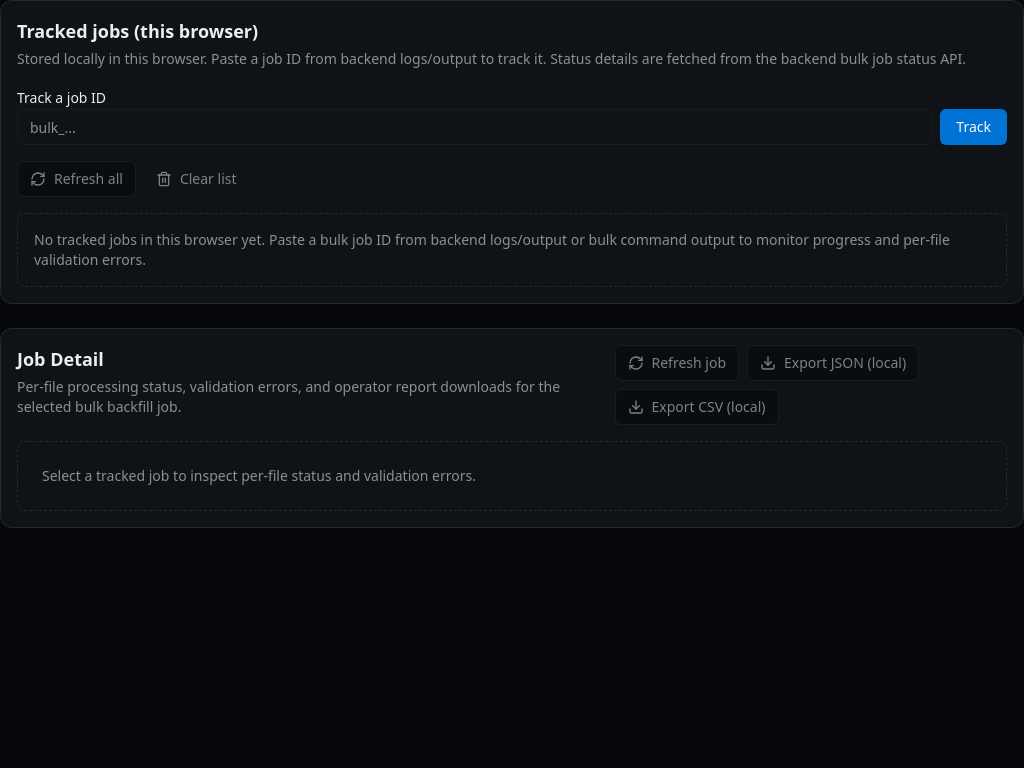
Scenario: AdminBulkBackfillMonitor › treats abort errors as silent refresh cancellations
The image size is (1024, 768).
In the field labelled "Track a job ID": coordinates (475, 127) [17,109,932,145], type "bulk_abort"
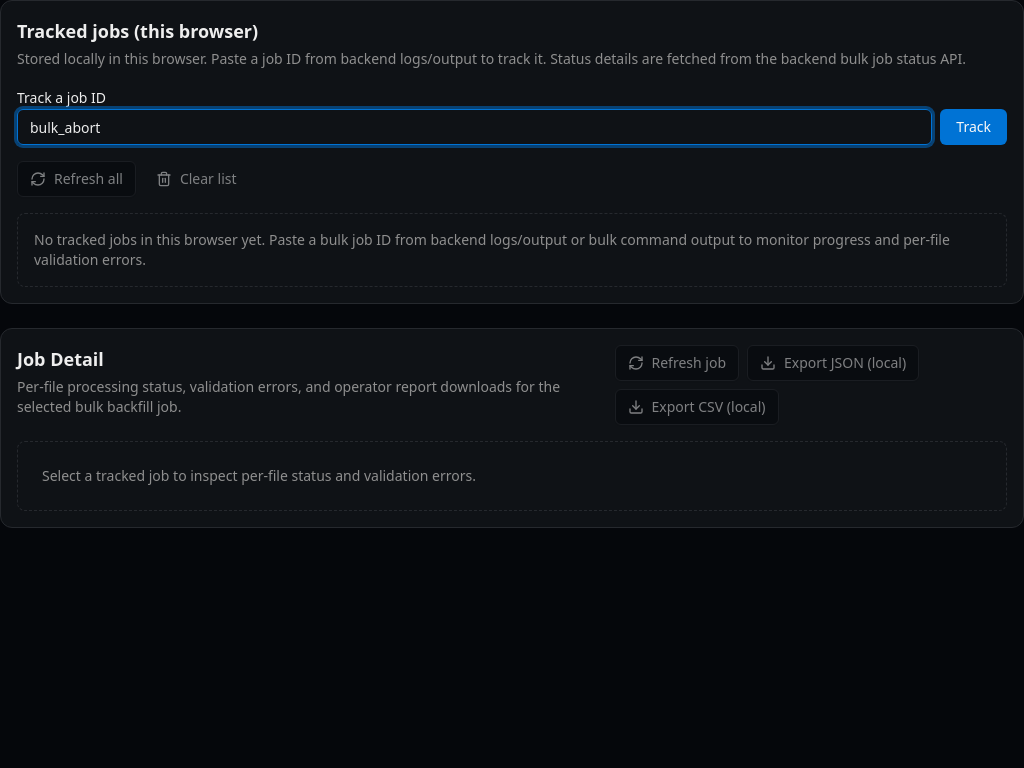
Click the button "Track": coordinates (974, 127) [940,109,1007,145]
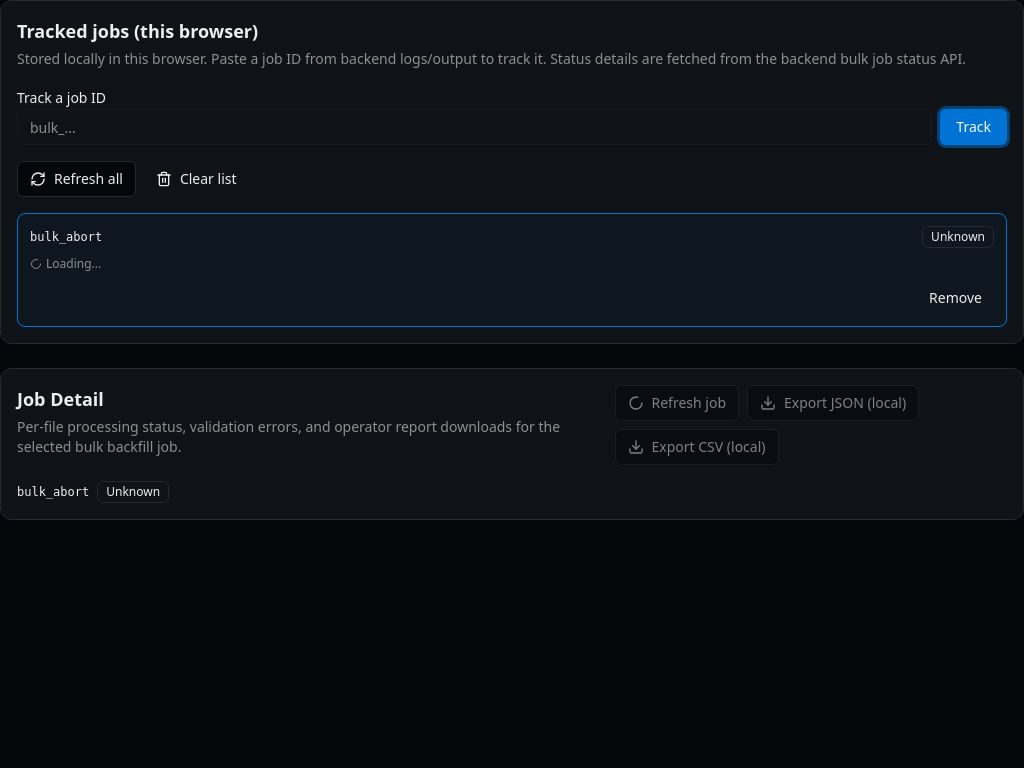
Result: the text "Loading..." is shown at [30,256,101,272]
